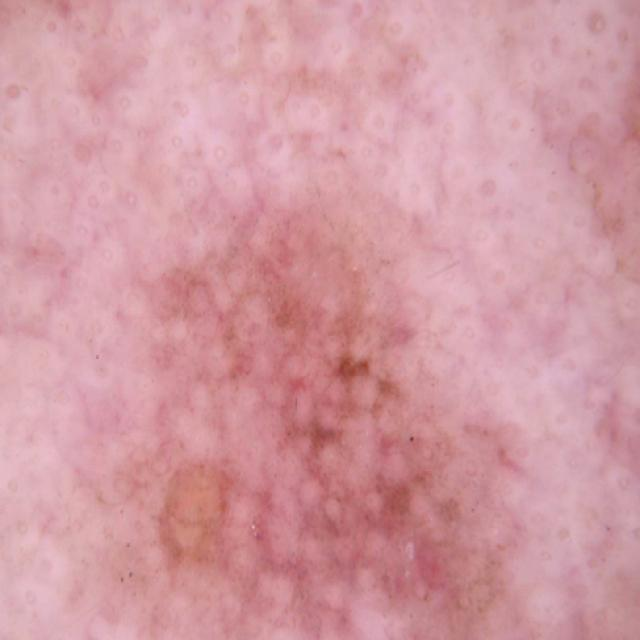Carcinoma: (258, 300, 481, 640), (143, 421, 252, 609)
